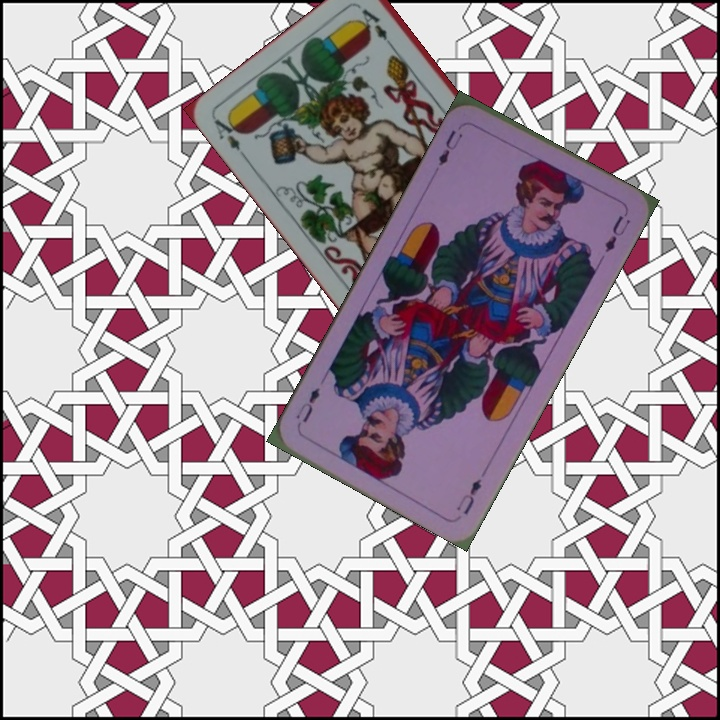EA: (210, 111, 252, 165)
EU: (452, 474, 485, 518), (434, 126, 465, 169)
